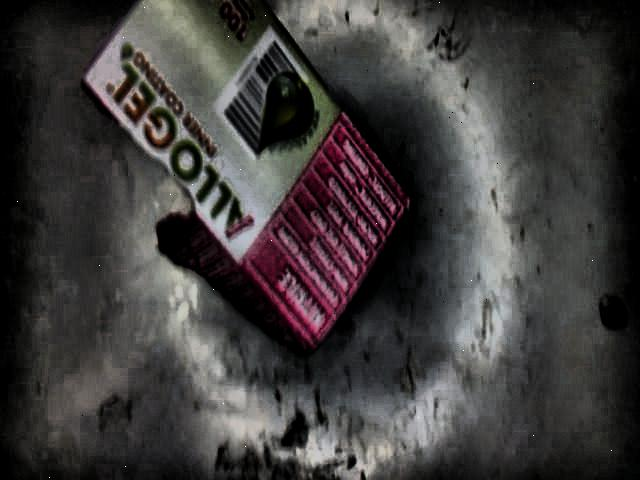Paper: (79, 2, 412, 357)
